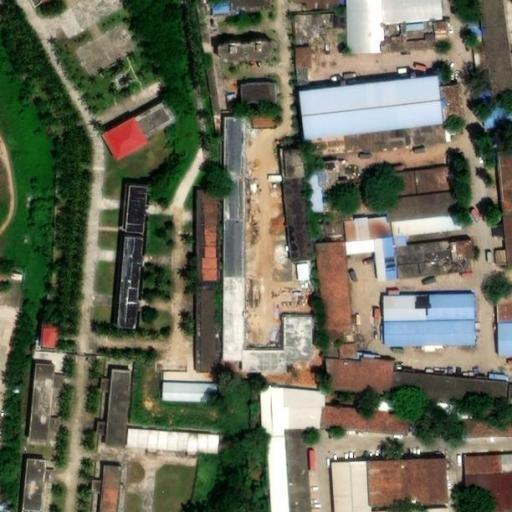building: (300, 76, 454, 149), (227, 117, 250, 377), (264, 435, 313, 512), (315, 244, 353, 339), (118, 234, 151, 331), (322, 357, 399, 396), (197, 284, 229, 377), (199, 192, 231, 285), (30, 366, 64, 448), (386, 165, 461, 201), (103, 371, 136, 452), (283, 180, 316, 260), (406, 460, 455, 509), (396, 371, 461, 407), (286, 383, 327, 436), (389, 193, 463, 222), (399, 239, 475, 266), (458, 375, 512, 412), (370, 460, 407, 510), (464, 474, 512, 512), (431, 287, 487, 319), (334, 463, 370, 512), (392, 213, 465, 237), (108, 124, 151, 164), (339, 213, 394, 244), (259, 385, 290, 439), (383, 319, 434, 351), (382, 289, 432, 321), (325, 405, 373, 438), (289, 6, 332, 42), (125, 186, 155, 236), (432, 317, 479, 348), (471, 101, 512, 135), (401, 261, 447, 291), (198, 56, 223, 111), (286, 314, 312, 363), (486, 277, 512, 324), (162, 383, 215, 406), (457, 414, 512, 436), (99, 464, 124, 512), (463, 453, 512, 477), (372, 410, 412, 439), (25, 460, 47, 512), (226, 47, 283, 67), (244, 353, 286, 378), (236, 82, 279, 106), (487, 323, 512, 361), (281, 151, 311, 182), (289, 40, 311, 82), (342, 239, 379, 261), (377, 238, 391, 282), (501, 155, 512, 207), (504, 207, 512, 278), (43, 328, 66, 352), (38, 352, 65, 367), (318, 155, 340, 171), (385, 237, 400, 258), (492, 252, 507, 261)
